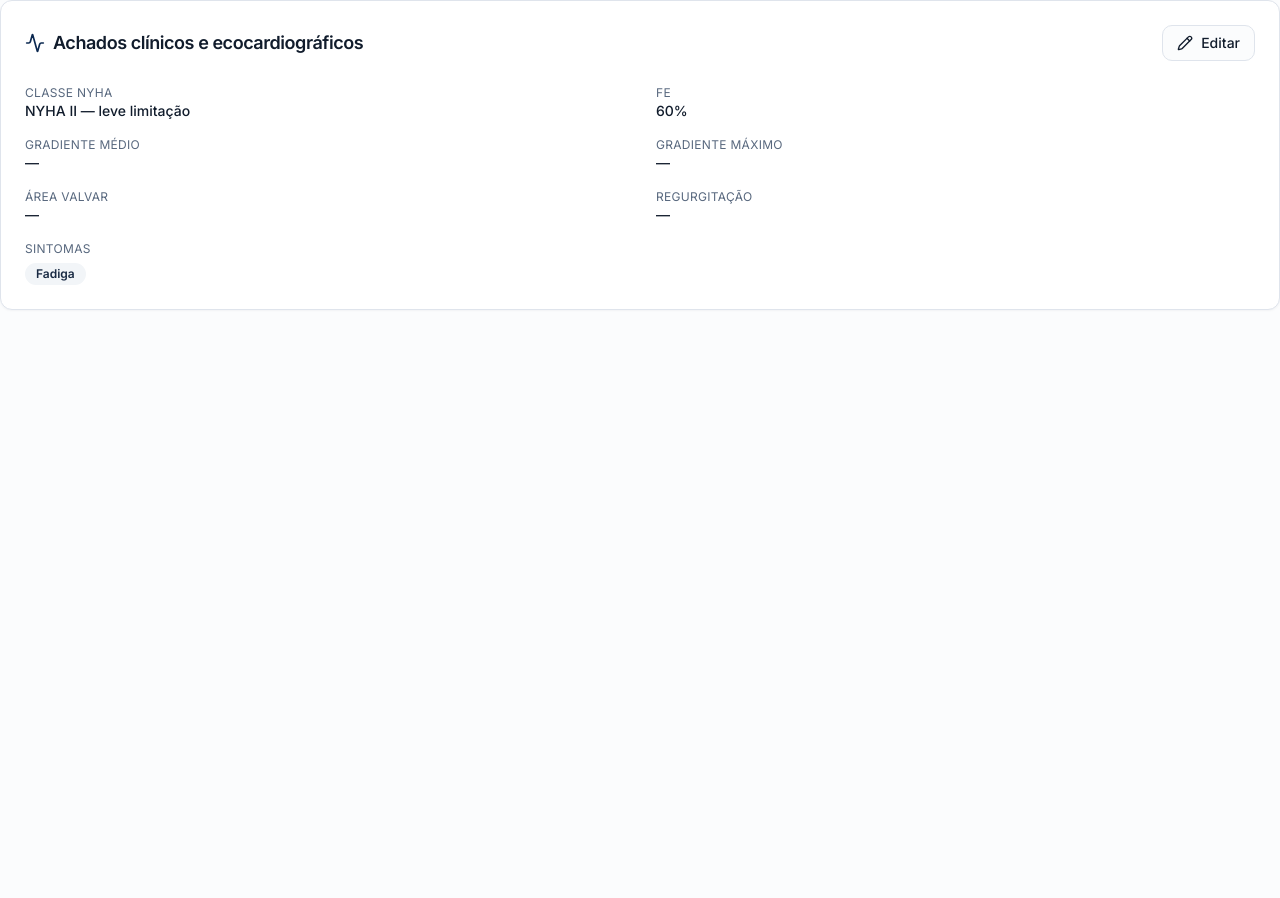
it: CaseFindingsEditor › sem exame no caso, o botão não fica clicável
Click the button "Editar": (1209, 43) [1162,25,1255,61]
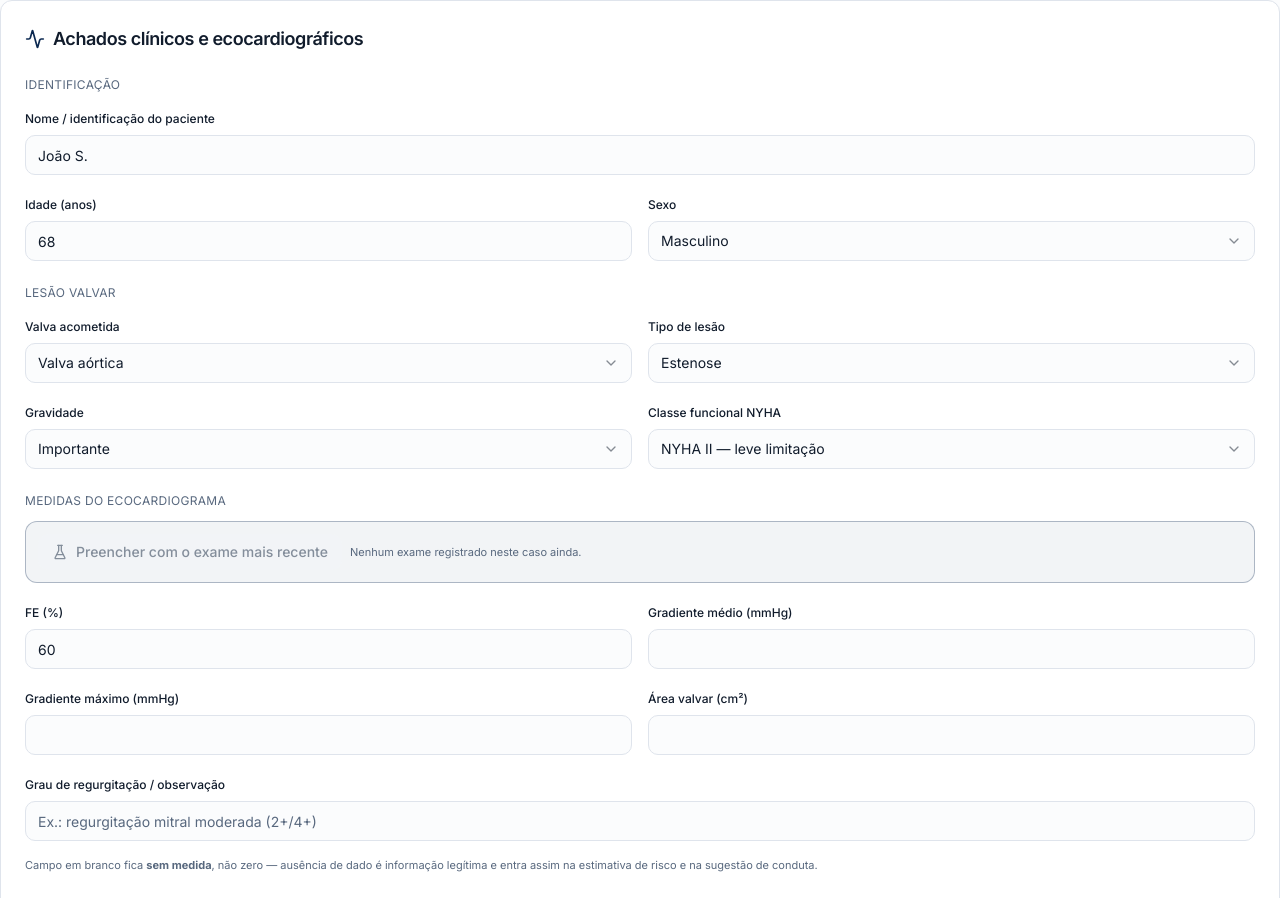
Result: the button "Preencher com o exame mais recente" is disabled at [38,534,342,570]
Result: the text "Nenhum exame registrado neste caso ainda." is shown at [350,544,582,560]
